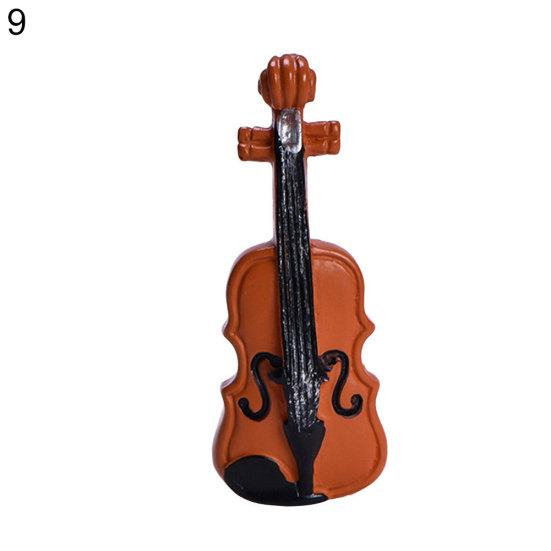Violin: (183, 37, 443, 524)
